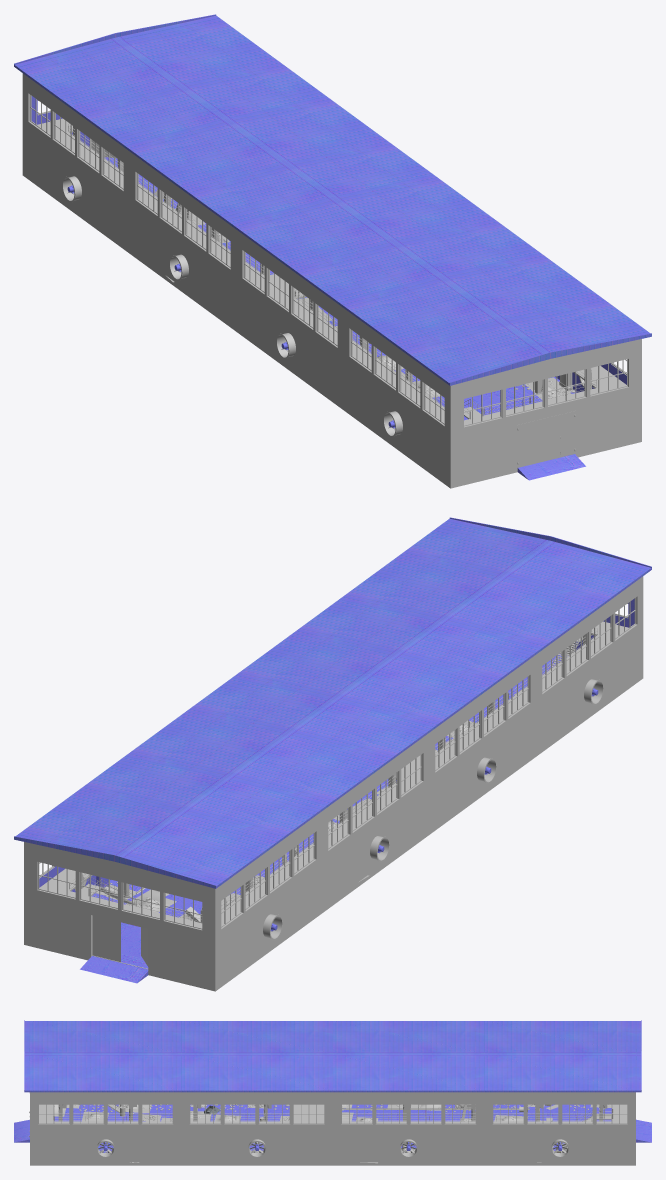
File: Factory1Items.fbx
The picture shows the model from 3 angles, top to bottom: view 1: azimuth 30°, elevation 25°; view 2: azimuth 150°, elevation 25°; view 3: azimuth 270°, elevation 25°; orthographic projection. The views are drawn at different scales.
Visible parts, largest first — view 1: Factory1Roof01__3_, Factory1Roof01__1_, Factory1Roof01, Factory1Roof01__2_, Factory1Wall01_2, Factory1Wall05_3, Factory1Wall05_5, Factory1Wall05, Factory1Wall05_2, Factory1Roof02__1_, Factory1Roof02, Factory1Stairs06__2_ (+6 smaller); view 2: Factory1Roof01__3_, Factory1Roof01__2_, Factory1Roof01__1_, Factory1Roof01, Factory1Wall01, Factory1Wall05, Factory1Wall05_3, Factory1Wall05_2, Factory1Wall05_5, Factory1Floor02_1, Factory1Roof02, Factory1Roof02__1_ (+5 smaller); view 3: Factory1Roof01__1_, Factory1Roof01__2_, Factory1Roof01, Factory1Roof01__3_, Factory1Wall05_6, Factory1Wall05_7, Factory1Wall05_8, Factory1Wall05_9, Factory1Floor03_1, Factory1Floor02_1, Factory1Floor02, Factory1Floor03 (+16 smaller).
Part boxes in pixels (x1=…): Factory1Roof01__3_: x1=232, y1=175, x2=540, y2=304; Factory1Roof01__1_: x1=125, y1=96, x2=433, y2=225; Factory1Roof01: x1=18, y1=18, x2=326, y2=147; Factory1Roof01__2_: x1=339, y1=253, x2=647, y2=382; Factory1Wall01_2: x1=453, y1=339, x2=638, y2=487; Factory1Wall05_3: x1=343, y1=308, x2=453, y2=488; Factory1Wall05_5: x1=236, y1=230, x2=343, y2=409; Factory1Wall05: x1=22, y1=73, x2=129, y2=253; Factory1Wall05_2: x1=129, y1=152, x2=236, y2=331; Factory1Roof02__1_: x1=14, y1=14, x2=219, y2=69; Factory1Roof02: x1=446, y1=331, x2=651, y2=385; Factory1Stairs06__2_: x1=143, y1=194, x2=264, y2=279; Factory1Roof01__3_: x1=232, y1=599, x2=540, y2=728; Factory1Roof01__2_: x1=339, y1=521, x2=647, y2=650; Factory1Roof01__1_: x1=125, y1=678, x2=433, y2=807; Factory1Roof01: x1=18, y1=756, x2=326, y2=885; Factory1Wall01: x1=27, y1=842, x2=212, y2=990; Factory1Wall05: x1=212, y1=811, x2=322, y2=991; Factory1Wall05_3: x1=536, y1=576, x2=643, y2=756; Factory1Wall05_2: x1=322, y1=733, x2=429, y2=912; Factory1Wall05_5: x1=429, y1=655, x2=536, y2=834; Factory1Floor02_1: x1=91, y1=880, x2=240, y2=968; Factory1Roof02: x1=446, y1=517, x2=651, y2=572; Factory1Roof02__1_: x1=14, y1=834, x2=219, y2=888; Factory1Roof01__1_: x1=333, y1=1021, x2=484, y2=1092; Factory1Roof01__2_: x1=30, y1=1021, x2=181, y2=1092; Factory1Roof01: x1=484, y1=1021, x2=635, y2=1092; Factory1Roof01__3_: x1=181, y1=1021, x2=332, y2=1092; Factory1Wall05_6: x1=484, y1=1092, x2=635, y2=1165; Factory1Wall05_7: x1=333, y1=1092, x2=484, y2=1165; Factory1Wall05_8: x1=30, y1=1092, x2=181, y2=1165; Factory1Wall05_9: x1=181, y1=1092, x2=332, y2=1165; Factory1Floor03_1: x1=342, y1=1104, x2=475, y2=1148; Factory1Floor02_1: x1=493, y1=1104, x2=611, y2=1150; Factory1Floor02: x1=54, y1=1104, x2=172, y2=1152; Factory1Floor03: x1=190, y1=1104, x2=289, y2=1150.
Size of the model in its own units: 2005 by 1074 by 7580.
